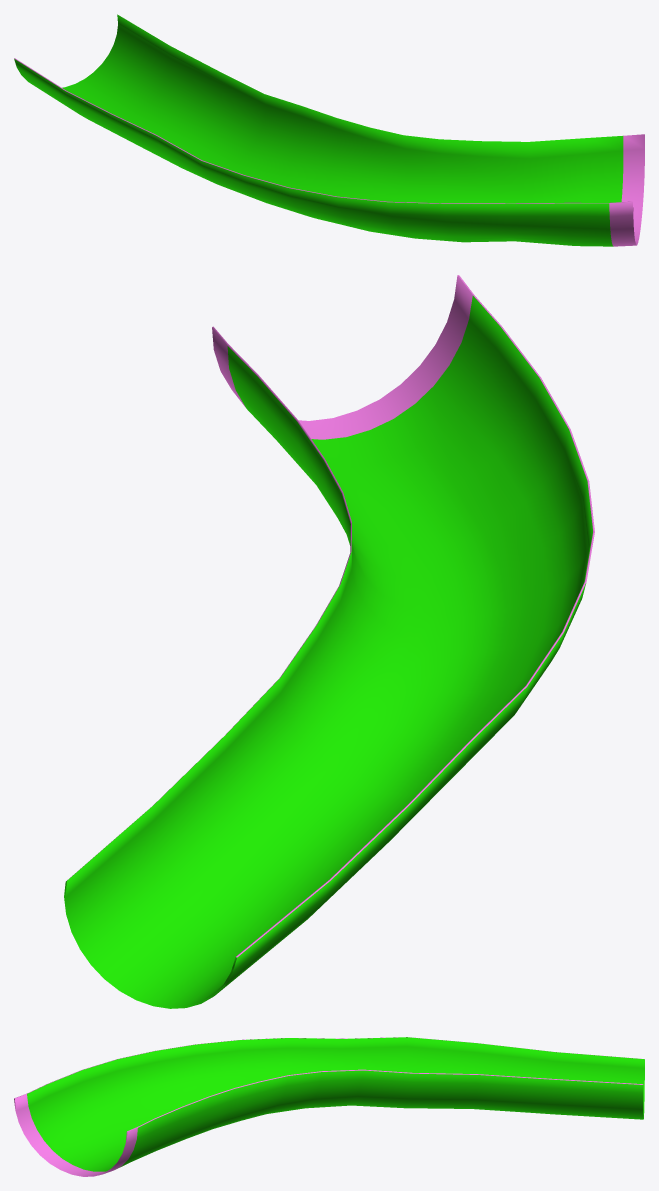
The model's file is çıkış.fbx.
The picture shows the model from 3 angles, top to bottom: view 1: azimuth 30°, elevation 25°; view 2: azimuth 150°, elevation 25°; view 3: azimuth 270°, elevation 25°; orthographic projection. The views are drawn at different scales.
Parts seen in each view (by area): view 1: yatayboru.001; view 2: yatayboru.001; view 3: yatayboru.001.
Boxes of the visible parts, x1=… form: yatayboru.001: x1=14, y1=14, x2=644, y2=246; yatayboru.001: x1=64, y1=275, x2=594, y2=1008; yatayboru.001: x1=14, y1=1037, x2=644, y2=1176.
Bounding box in the file's own units: 340 × 114 × 680.
